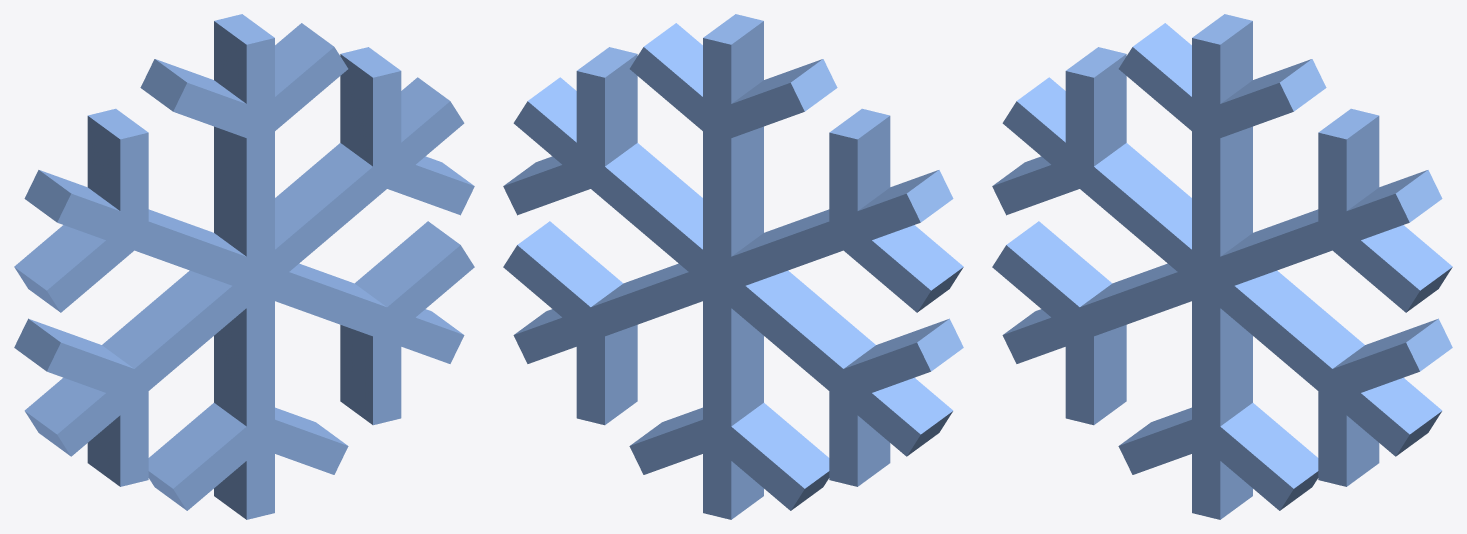
The model's file is Snowflake.obj.
The picture shows the model from 3 angles, left to right: view 1: azimuth 30°, elevation 25°; view 2: azimuth 150°, elevation 25°; view 3: azimuth 330°, elevation 25°; orthographic projection.
Visible parts, largest first — view 1: SNOWFLAKE; view 2: SNOWFLAKE; view 3: SNOWFLAKE.
Boxes of the visible parts, x1,y1,x2,y2 form: SNOWFLAKE: [14, 14, 474, 519]; SNOWFLAKE: [503, 14, 963, 519]; SNOWFLAKE: [992, 14, 1452, 519].
Bounding box in the file's own units: 3.78 × 4.01 × 0.5.
